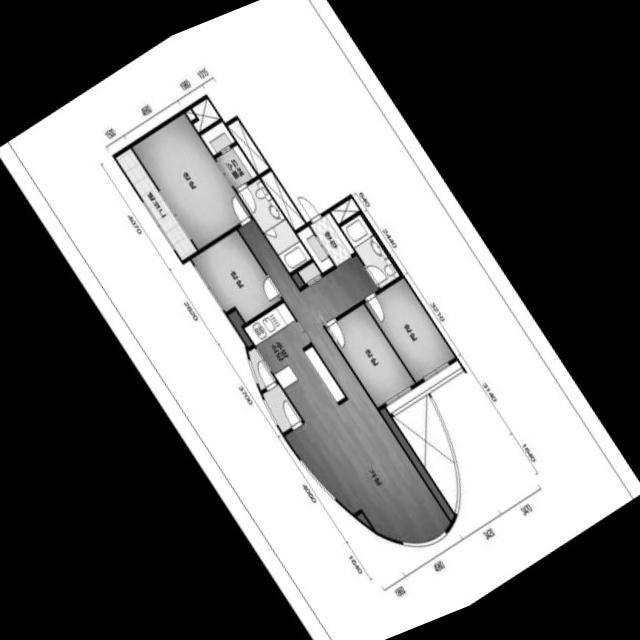background: (0, 0, 640, 640)
space_balconi: (115, 148, 197, 260)
space_bedroom: (131, 113, 251, 250), (364, 277, 455, 382), (326, 303, 415, 407), (191, 229, 281, 322)
space_dressroom: (200, 121, 257, 189)
space_front: (296, 212, 354, 273)
space_kitchen: (243, 302, 345, 422)
space_living_room: (237, 218, 450, 543)
space_other: (379, 407, 454, 521), (260, 170, 305, 230), (361, 213, 401, 274), (226, 119, 269, 175), (262, 383, 302, 433), (248, 347, 276, 391), (191, 98, 220, 132), (227, 310, 252, 347), (330, 197, 359, 224), (356, 512, 372, 529), (291, 272, 304, 288), (185, 109, 196, 121)
space_toilet: (237, 178, 311, 273), (340, 214, 399, 288)
